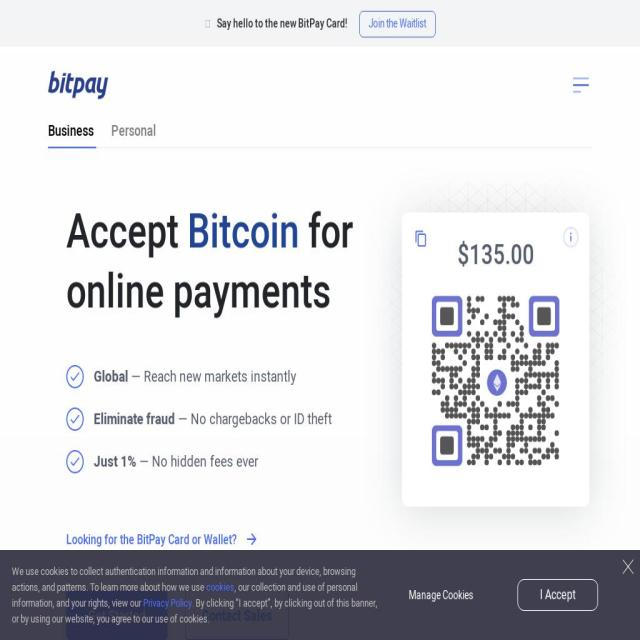button: (66, 530, 393, 551), (185, 590, 289, 640), (66, 590, 168, 640), (48, 67, 123, 103), (358, 10, 436, 38), (48, 120, 96, 148), (557, 68, 592, 101), (143, 595, 194, 611), (618, 556, 638, 577)
heading: (66, 198, 354, 328), (66, 198, 188, 268), (188, 198, 300, 268)
image: (382, 182, 600, 458), (402, 204, 590, 499), (48, 71, 108, 99), (572, 78, 592, 104), (66, 365, 84, 389), (66, 408, 84, 432), (66, 450, 84, 474), (622, 558, 634, 576), (247, 533, 257, 545)
link: (206, 579, 235, 595)
text: (12, 595, 378, 627), (12, 579, 358, 611), (12, 563, 356, 595), (128, 365, 297, 389), (178, 408, 333, 432), (66, 530, 238, 551), (457, 226, 535, 268), (136, 450, 259, 474), (204, 14, 350, 33), (393, 581, 488, 609), (517, 579, 598, 611), (94, 408, 175, 432), (48, 119, 96, 143), (111, 119, 156, 143), (94, 450, 137, 474), (94, 365, 128, 389)
